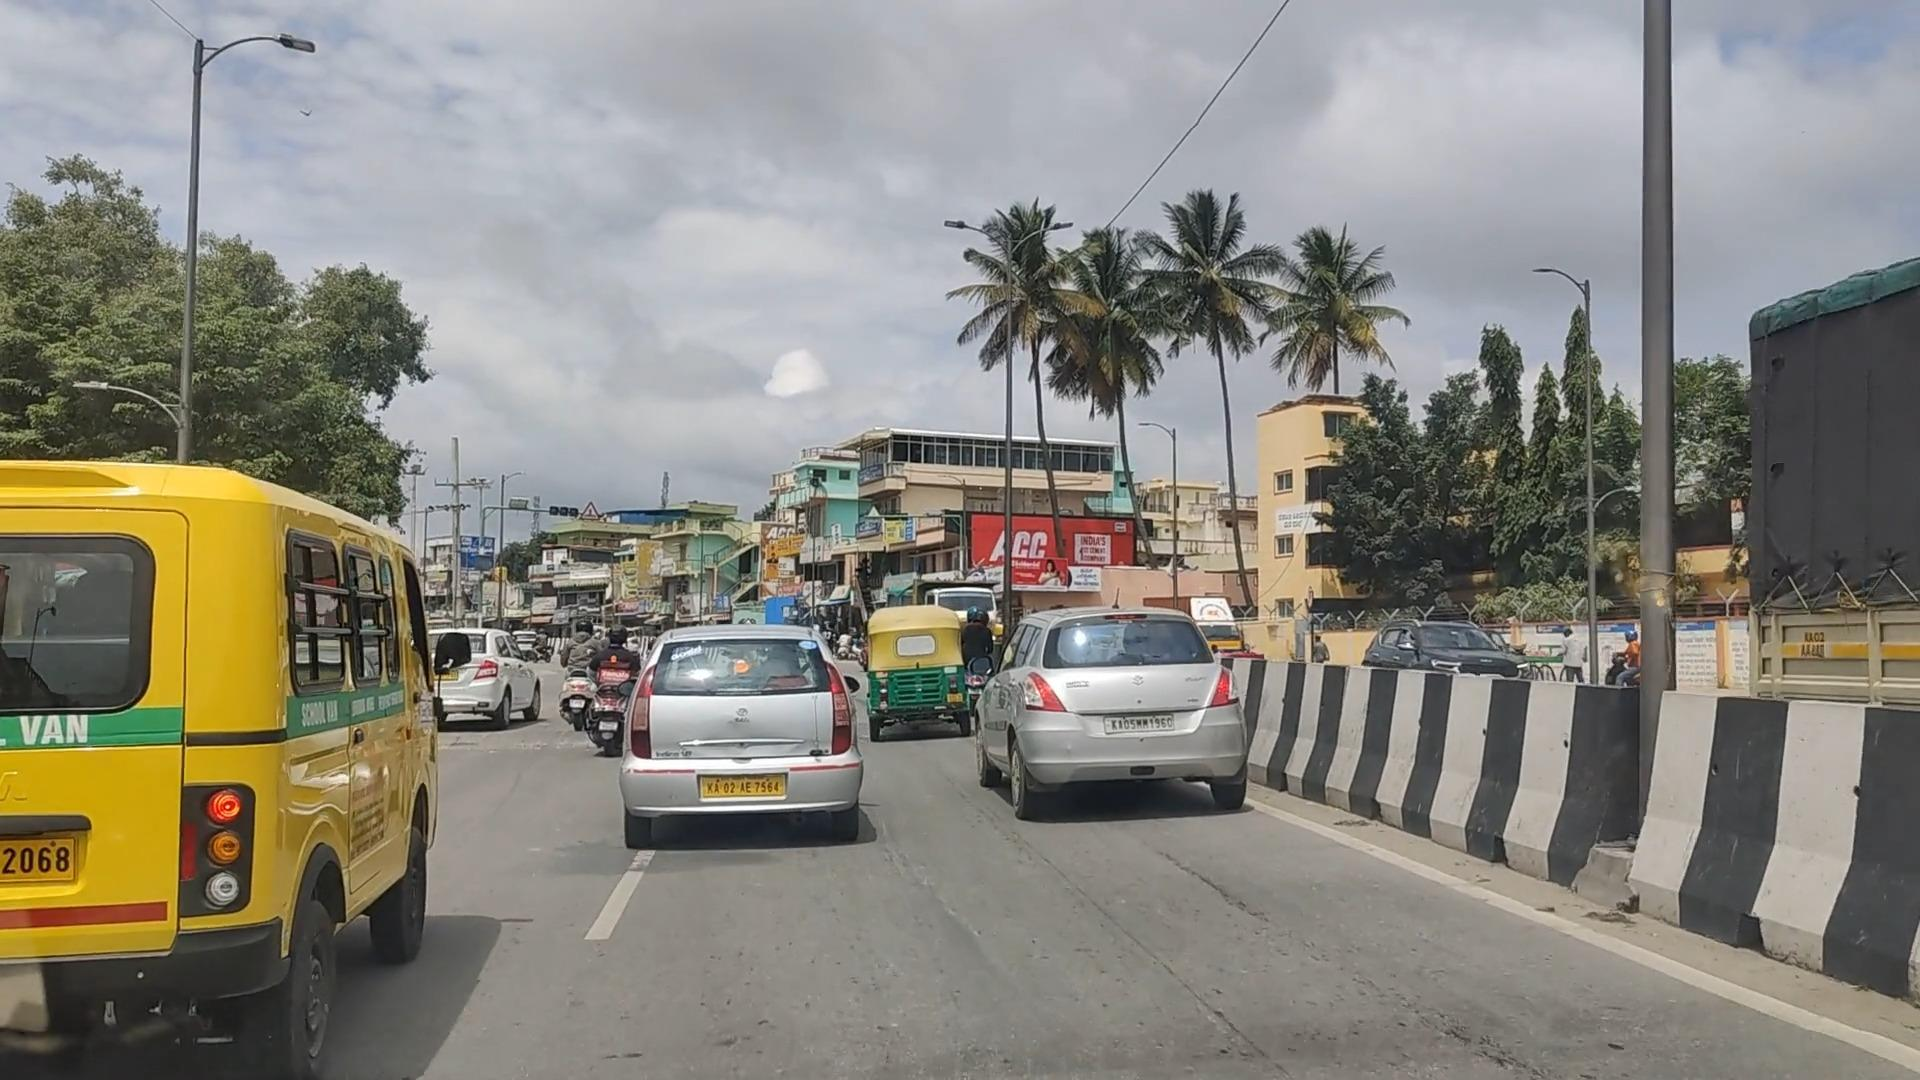LMV: (0, 450, 520, 1055), (597, 584, 885, 865), (967, 580, 1266, 829), (847, 568, 984, 746)
